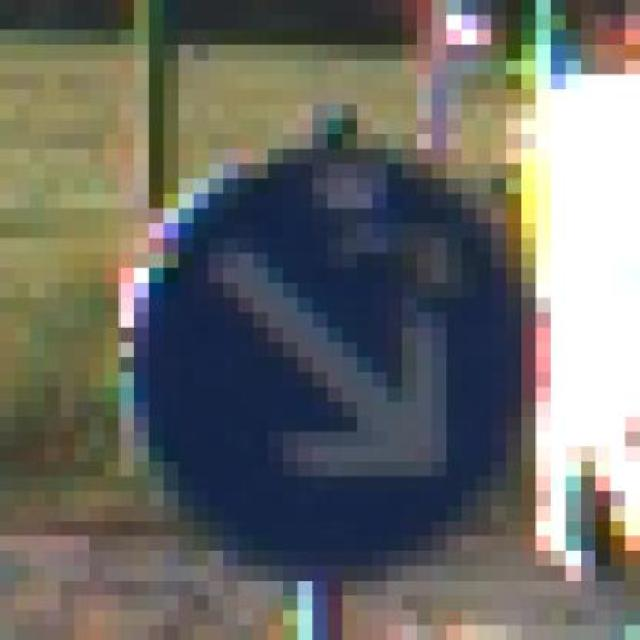Keep-Right: (83, 106, 545, 599)
